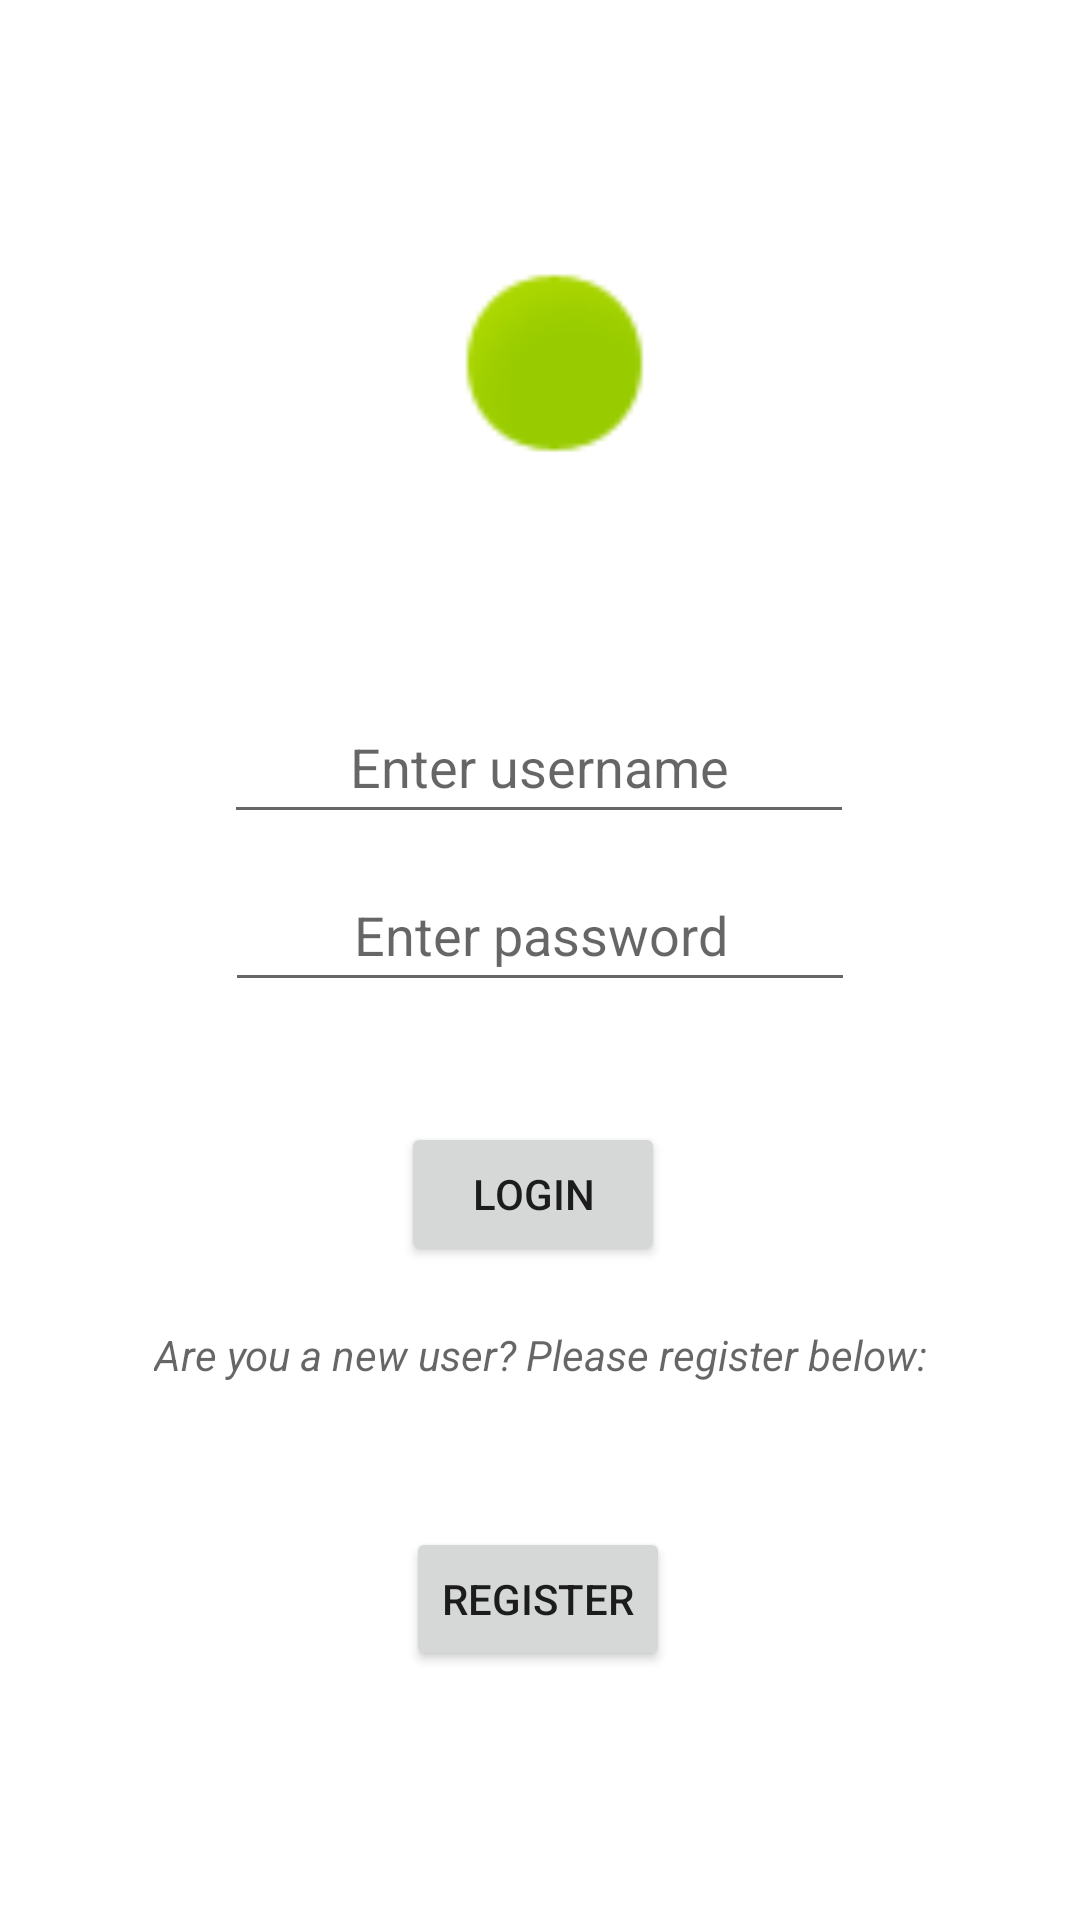

Screen size 1080w x 1920h. Icon name, then its center in pixels as [x,y]:
presence online: [554,363]
